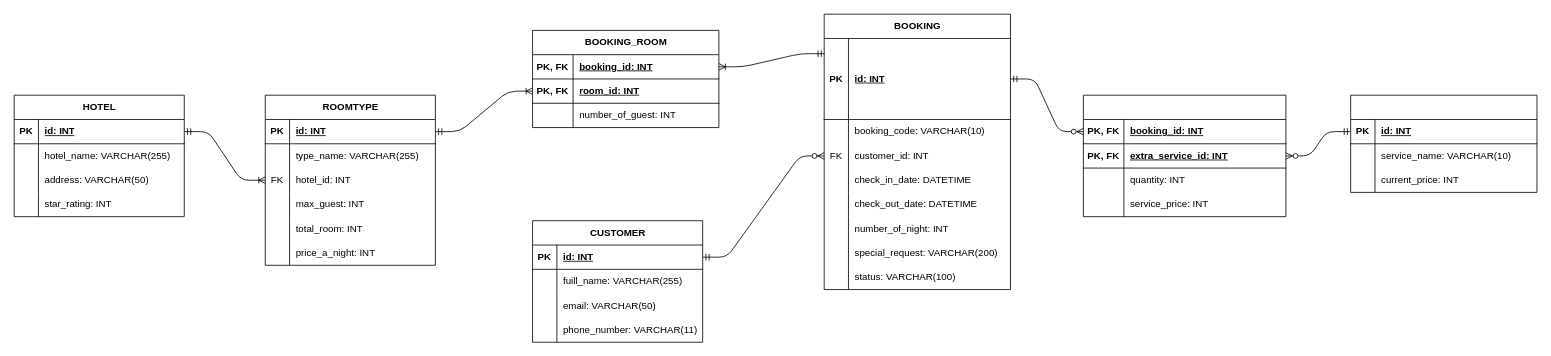
The diagram is 1551 pixels wide and 356 high, and some of its shapes have lost their labels. Each missing label, with the box of its shape:
BOOKING_SERVICE: (1083, 94, 1286, 217)
EXTRASERVICE: (1350, 94, 1537, 192)
